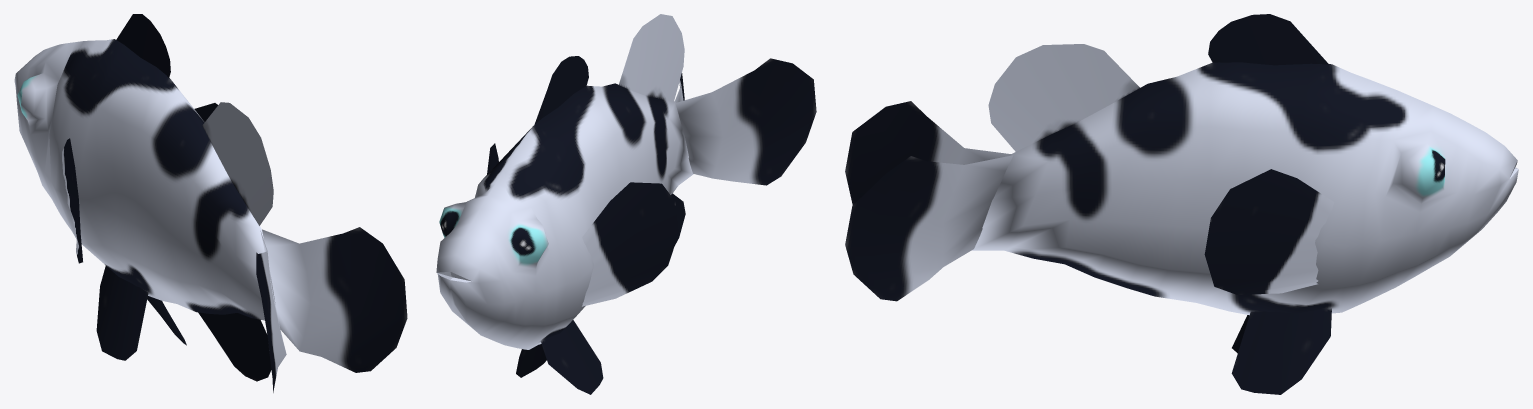
Rendered from ClownFIshPanda.fbx.
3 views of the same model, side by side, from view 1: azimuth 30°, elevation 25°; view 2: azimuth 150°, elevation 25°; view 3: azimuth 270°, elevation 25° (orthographic). The views are drawn at different scales.
Visible parts, largest first — view 1: ClownFIshPanda_LOD00; view 2: ClownFIshPanda_LOD00; view 3: ClownFIshPanda_LOD00.
Boxes of the visible parts, x1,y1,x2,y2 form: ClownFIshPanda_LOD00: [14, 14, 407, 392]; ClownFIshPanda_LOD00: [436, 14, 816, 394]; ClownFIshPanda_LOD00: [845, 14, 1518, 394].
Size of what is drawn, in the model's own units: 30.21 by 51.92 by 87.7.
